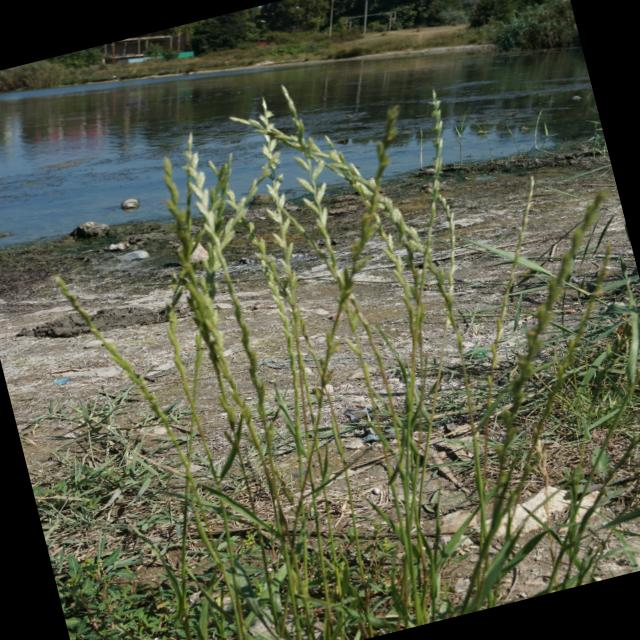Lolium: (61, 77, 640, 640), (240, 74, 439, 307), (224, 99, 333, 288), (142, 160, 226, 352), (173, 152, 250, 298)
